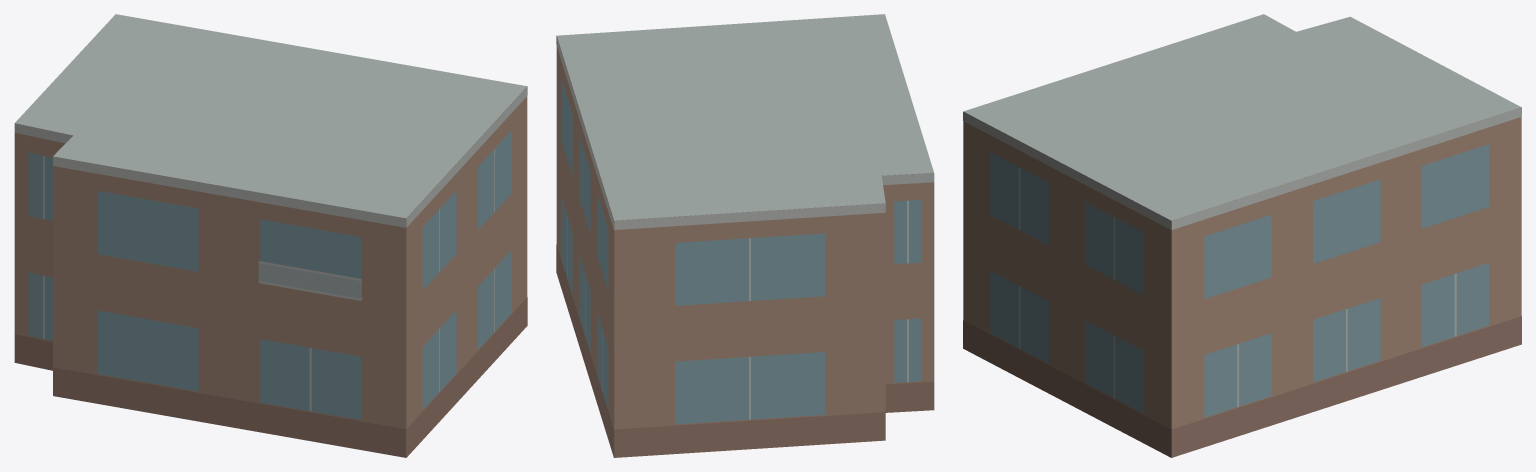
File: survey-upis-32886458.glb
3 views of the same model, side by side, from view 1: azimuth 30°, elevation 25°; view 2: azimuth 150°, elevation 25°; view 3: azimuth 270°, elevation 25° (orthographic).
Parts seen in each view (by area): view 1: survey-upis-32886458.tmp; view 2: survey-upis-32886458.tmp; view 3: survey-upis-32886458.tmp.
Boxes of the visible parts, <box> form: survey-upis-32886458.tmp: <box>14,14,527,457</box>; survey-upis-32886458.tmp: <box>556,14,934,457</box>; survey-upis-32886458.tmp: <box>963,14,1521,457</box>.
Bounding box in the file's own units: 11.41 × 6.1 × 13.03.
